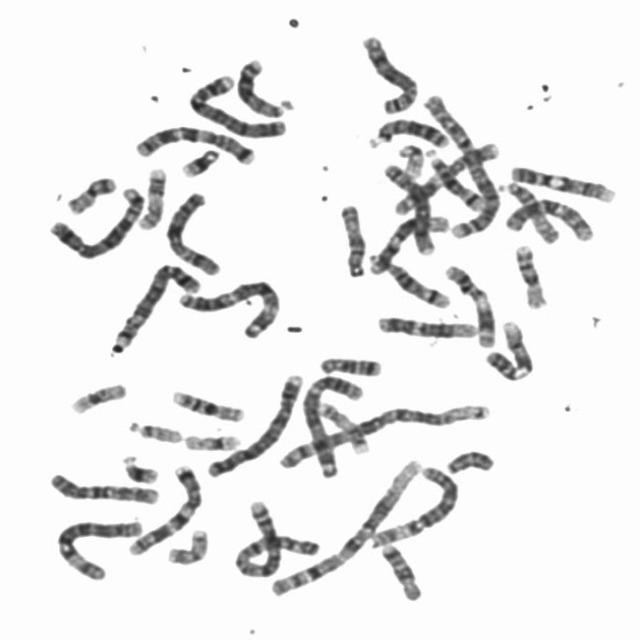A1: (263, 451, 427, 598), (272, 396, 494, 472)
A2: (416, 87, 503, 240), (229, 494, 322, 578)
A3: (170, 272, 285, 340), (292, 369, 365, 476)
B4: (200, 367, 306, 479), (181, 68, 290, 140)
B5: (105, 256, 203, 354), (41, 180, 148, 261)
C10: (499, 191, 597, 243), (42, 466, 163, 506)
C11: (392, 144, 508, 218), (438, 257, 498, 349)
C12: (362, 207, 452, 276), (371, 308, 482, 340)
C6: (361, 457, 462, 550), (49, 512, 145, 582)
C7: (121, 458, 205, 557), (126, 118, 259, 167)
C8: (376, 156, 441, 256), (354, 29, 422, 116)
C9: (502, 159, 618, 204), (478, 314, 537, 382)
D13: (231, 50, 289, 120), (360, 111, 452, 152)
D14: (364, 248, 453, 310), (422, 148, 487, 212)
D15: (494, 174, 562, 245), (333, 197, 369, 279)
E16: (164, 382, 248, 423), (508, 238, 550, 310)
E17: (309, 395, 372, 455), (131, 162, 169, 230)
E18: (376, 537, 426, 603), (314, 349, 384, 378)
F19: (63, 376, 130, 416), (177, 425, 244, 453)
F20: (60, 168, 119, 216), (160, 522, 210, 566)
G21: (174, 141, 223, 179), (115, 448, 162, 486)
G22: (121, 414, 184, 444), (392, 137, 427, 178)
X: (160, 185, 224, 277)
Y: (440, 442, 498, 476)
